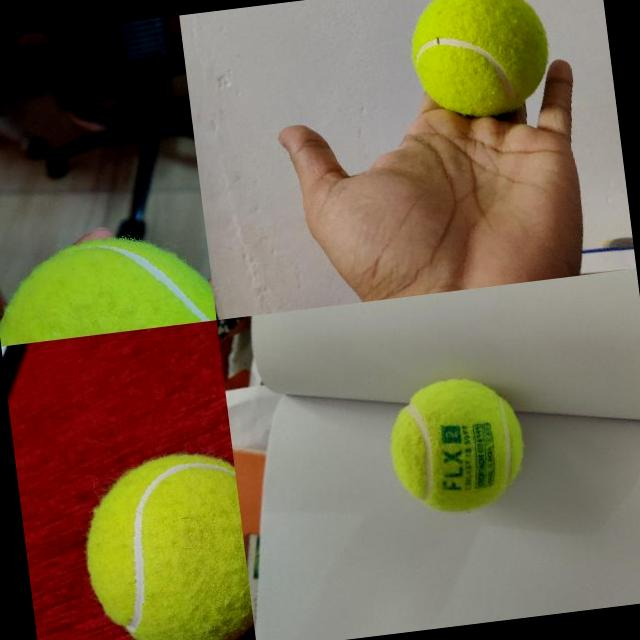Tennis Ball: (74, 446, 255, 640), (0, 226, 215, 345), (382, 371, 529, 520), (405, 0, 555, 123)
